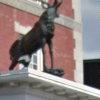Statue: (8, 3, 66, 76)
